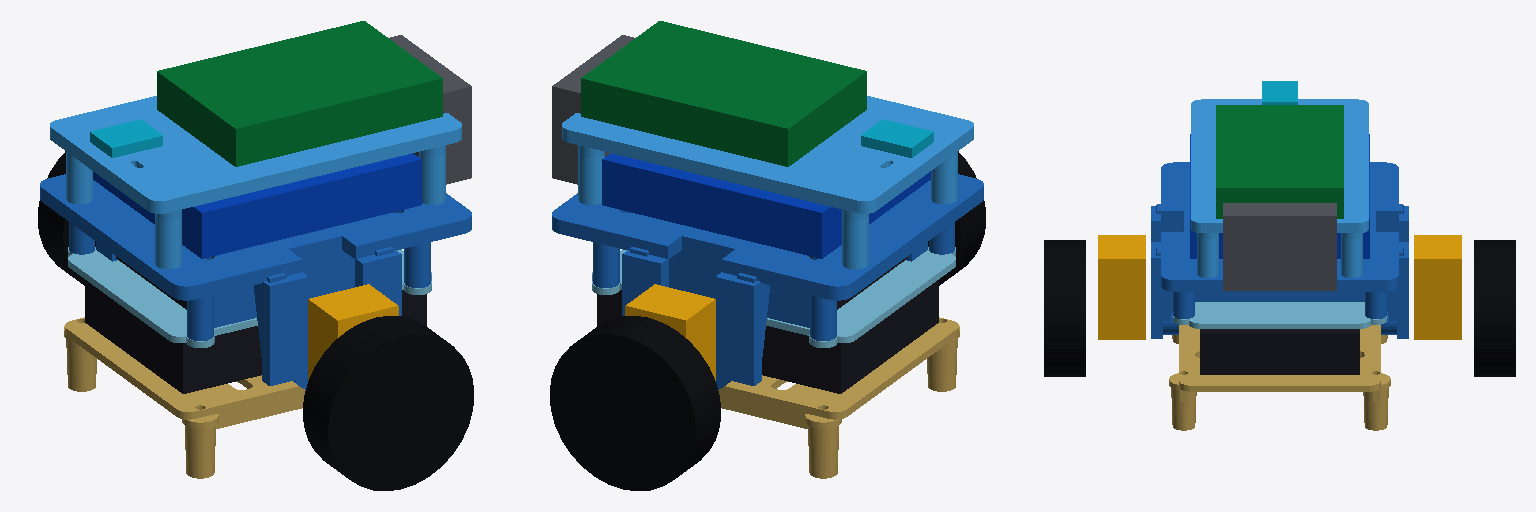
URDF robot description (balancing_robot_v12_stl_weighted):
<?xml version="1.0" ?>
<robot name="balancing_robot_v12_stl_weighted">
  <material name="chassis_blue">
    <color rgba="0.16 0.45 0.78 1"/>
  </material>
  <material name="upper_blue">
    <color rgba="0.27 0.65 0.92 1"/>
  </material>
  <material name="cover_blue">
    <color rgba="0.49 0.76 0.86 1"/>
  </material>
  <material name="cradle_sand">
    <color rgba="0.79 0.67 0.37 1"/>
  </material>
  <material name="pi_green">
    <color rgba="0.05 0.49 0.23 1"/>
  </material>
  <material name="mcore_blue">
    <color rgba="0.06 0.30 0.77 1"/>
  </material>
  <material name="mpu_cyan">
    <color rgba="0.07 0.70 0.83 1"/>
  </material>
  <material name="aa_black">
    <color rgba="0.14 0.15 0.18 1"/>
  </material>
  <material name="powerbank_black">
    <color rgba="0.13 0.13 0.17 1"/>
  </material>
  <material name="tt_yellow">
    <color rgba="0.93 0.68 0.08 1"/>
  </material>
  <material name="wheel_black">
    <color rgba="0.08 0.085 0.10 1"/>
  </material>
  <material name="cable_grey">
    <color rgba="0.36 0.37 0.40 1"/>
  </material>
  <link name="chassis">
    <inertial>
      <origin xyz="1.34274673e-05 -4.31444465e-12 0.0304160487" rpy="0 0 0"/>
      <mass value="0.106395932"/>
      <inertia ixx="0.00016612616218" ixy="4.10780345415e-14" ixz="1.20337599025e-08" iyy="0.000122442398391" iyz="4.05513702176e-15" izz="0.00025238717443"/>
    </inertial>
    <visual>
      <origin xyz="0 0 0.042" rpy="3.14159265 0 0"/>
      <geometry>
        <mesh filename="V12_Lower_M3_mCore_Compact_Motor_Walls.stl" scale="0.001 0.001 0.001"/>
      </geometry>
      <material name="chassis_blue"/>
    </visual>
    <collision>
      <origin xyz="0 0 0.03925" rpy="0 0 0"/>
      <geometry>
        <box size="0.122 0.104 0.0055"/>
      </geometry>
    </collision>
    <collision>
      <origin xyz="0 0.05375 0.01725" rpy="0 0 0"/>
      <geometry>
        <box size="0.054 0.0055 0.0385"/>
      </geometry>
    </collision>
    <collision>
      <origin xyz="0 -0.05375 0.01725" rpy="0 0 0"/>
      <geometry>
        <box size="0.054 0.0055 0.0385"/>
      </geometry>
    </collision>
    <collision>
      <origin xyz="-0.007 0.0375 0.0265" rpy="0 0 0"/>
      <geometry>
        <box size="0.072 0.003 0.02"/>
      </geometry>
    </collision>
    <collision>
      <origin xyz="-0.007 -0.0375 0.0265" rpy="0 0 0"/>
      <geometry>
        <box size="0.072 0.003 0.02"/>
      </geometry>
    </collision>
    <collision>
      <origin xyz="0.0275 0 0.0265" rpy="0 0 0"/>
      <geometry>
        <box size="0.003 0.078 0.02"/>
      </geometry>
    </collision>
  </link>
  <link name="upper_deck">
    <inertial>
      <origin xyz="-0.00117529397 -1.63109189e-11 0.0667863561" rpy="0 0 0"/>
      <mass value="0.0508597458"/>
      <inertia ixx="3.07240740549e-05" ixy="-2.08002570556e-15" ixz="1.8669714045e-07" iyy="7.77741499737e-05" iyz="-2.76864318174e-15" izz="0.000105591642619"/>
    </inertial>
    <visual>
      <origin xyz="0 0 0.071" rpy="3.14159265 0 0"/>
      <geometry>
        <mesh filename="V12_Upper_Pi_MPU_Short_24mm_Pillars.stl" scale="0.001 0.001 0.001"/>
      </geometry>
      <material name="upper_blue"/>
    </visual>
    <collision>
      <origin xyz="0 0 0.0685" rpy="0 0 0"/>
      <geometry>
        <box size="0.128 0.078 0.005"/>
      </geometry>
    </collision>
    <collision>
      <origin xyz="-0.054 -0.0315 0.054" rpy="0 0 0"/>
      <geometry>
        <cylinder radius="0.00475" length="0.024"/>
      </geometry>
    </collision>
    <collision>
      <origin xyz="-0.054 0.0315 0.054" rpy="0 0 0"/>
      <geometry>
        <cylinder radius="0.00475" length="0.024"/>
      </geometry>
    </collision>
    <collision>
      <origin xyz="0.054 -0.0315 0.054" rpy="0 0 0"/>
      <geometry>
        <cylinder radius="0.00475" length="0.024"/>
      </geometry>
    </collision>
    <collision>
      <origin xyz="0.054 0.0315 0.054" rpy="0 0 0"/>
      <geometry>
        <cylinder radius="0.00475" length="0.024"/>
      </geometry>
    </collision>
  </link>
  <joint name="upper_deck_fixed" type="fixed">
    <origin xyz="0 0 0" rpy="0 0 0"/>
    <parent link="chassis"/>
    <child link="upper_deck"/>
  </joint>
  <link name="aa_lid">
    <inertial>
      <origin xyz="-0.0025 -2.13590834e-19 0.0152" rpy="0 0 0"/>
      <mass value="0.0253443107"/>
      <inertia ixx="1.42358720144e-05" ixy="-5.5757118389e-23" ixz="-3.24798747897e-23" iyy="2.46714389835e-05" iyz="1.19634205475e-22" izz="3.88787564078e-05"/>
    </inertial>
    <visual>
      <origin xyz="0 0 0.0165" rpy="3.14159265 0 0"/>
      <geometry>
        <mesh filename="V12_AA_Battery_Pocket_Cover.stl" scale="0.001 0.001 0.001"/>
      </geometry>
      <material name="cover_blue"/>
    </visual>
    <collision>
      <origin xyz="-0.0025 0 0.0152" rpy="0 0 0"/>
      <geometry>
        <box size="0.107 0.08 0.0026"/>
      </geometry>
    </collision>
  </link>
  <joint name="aa_lid_fixed" type="fixed">
    <origin xyz="0 0 0" rpy="0 0 0"/>
    <parent link="chassis"/>
    <child link="aa_lid"/>
  </joint>
  <link name="powerbank_cradle">
    <inertial>
      <origin xyz="-0.000423340593 6.52540513e-10 -0.0157889269" rpy="0 0 0"/>
      <mass value="0.0368898487"/>
      <inertia ixx="3.60939612444e-05" ixy="9.21363275809e-14" ixz="-1.66353408261e-07" iyy="4.47970968328e-05" iyz="3.09276846336e-13" izz="7.85799743048e-05"/>
    </inertial>
    <visual>
      <origin xyz="0 0 -0.0116" rpy="3.14159265 0 0"/>
      <geometry>
        <mesh filename="V12_Powerbank_20mm_Open_End_Cradle.stl" scale="0.001 0.001 0.001"/>
      </geometry>
      <material name="cradle_sand"/>
    </visual>
    <collision>
      <origin xyz="0 0 -0.0101" rpy="0 0 0"/>
      <geometry>
        <box size="0.11 0.088 0.003"/>
      </geometry>
    </collision>
    <collision>
      <origin xyz="-0.047 -0.042 0.00265" rpy="0 0 0"/>
      <geometry>
        <cylinder radius="0.005" length="0.0225"/>
      </geometry>
    </collision>
    <collision>
      <origin xyz="-0.047 0.042 0.00265" rpy="0 0 0"/>
      <geometry>
        <cylinder radius="0.005" length="0.0225"/>
      </geometry>
    </collision>
    <collision>
      <origin xyz="0.042 -0.042 0.00265" rpy="0 0 0"/>
      <geometry>
        <cylinder radius="0.005" length="0.0225"/>
      </geometry>
    </collision>
    <collision>
      <origin xyz="0.042 0.042 0.00265" rpy="0 0 0"/>
      <geometry>
        <cylinder radius="0.005" length="0.0225"/>
      </geometry>
    </collision>
  </link>
  <joint name="powerbank_cradle_fixed" type="fixed">
    <origin xyz="0 0 0" rpy="0 0 0"/>
    <parent link="chassis"/>
    <child link="powerbank_cradle"/>
  </joint>
  <link name="mcore">
    <inertial>
      <origin xyz="0 0 0" rpy="0 0 0"/>
      <mass value="0.043"/>
      <inertia ixx="2.35245833333e-05" ixy="0" ixz="0" iyy="3.0186e-05" iyz="0" izz="5.13885833333e-05"/>
    </inertial>
    <visual>
      <origin xyz="0 0 0" rpy="0 0 0"/>
      <geometry>
        <box size="0.09 0.079 0.018"/>
      </geometry>
      <material name="mcore_blue"/>
    </visual>
  </link>
  <joint name="mcore_fixed" type="fixed">
    <origin xyz="0 0 0.054" rpy="0 0 0"/>
    <parent link="chassis"/>
    <child link="mcore"/>
  </joint>
  <link name="raspberry_pi_4">
    <inertial>
      <origin xyz="0 0 0" rpy="0 0 0"/>
      <mass value="0.046"/>
      <inertia ixx="1.28838333333e-05" ixy="0" ixz="0" iyy="2.85583333333e-05" iyz="0" izz="3.97171666667e-05"/>
    </inertial>
    <visual>
      <origin xyz="0 0 0" rpy="0 0 0"/>
      <geometry>
        <box size="0.085 0.056 0.015"/>
      </geometry>
      <material name="pi_green"/>
    </visual>
  </link>
  <joint name="raspberry_pi_4_fixed" type="fixed">
    <origin xyz="0.018 0 0.079" rpy="0 0 0"/>
    <parent link="chassis"/>
    <child link="raspberry_pi_4"/>
  </joint>
  <link name="mpu6050_gy521">
    <inertial>
      <origin xyz="0 0 0" rpy="0 0 0"/>
      <mass value="0.003"/>
      <inertia ixx="6.8e-08" ixy="0" ixz="0" iyy="1.1425e-07" iyz="0" izz="1.7425e-07"/>
    </inertial>
    <visual>
      <origin xyz="0 0 0" rpy="0 0 0"/>
      <geometry>
        <box size="0.021 0.016 0.004"/>
      </geometry>
      <material name="mpu_cyan"/>
    </visual>
  </link>
  <joint name="mpu6050_gy521_fixed" type="fixed">
    <origin xyz="-0.053 0 0.078" rpy="0 0 0"/>
    <parent link="chassis"/>
    <child link="mpu6050_gy521"/>
  </joint>
  <link name="aa_batteries_and_holder">
    <inertial>
      <origin xyz="0 0 0" rpy="0 0 0"/>
      <mass value="0.121"/>
      <inertia ixx="5.40970833333e-05" ixy="0" ixz="0" iyy="5.127375e-05" iyz="0" izz="9.88368333333e-05"/>
    </inertial>
    <visual>
      <origin xyz="0 0 0" rpy="0 0 0"/>
      <geometry>
        <box size="0.069 0.071 0.018"/>
      </geometry>
      <material name="aa_black"/>
    </visual>
  </link>
  <joint name="aa_batteries_and_holder_fixed" type="fixed">
    <origin xyz="-0.007 0 0.0265" rpy="0 0 0"/>
    <parent link="chassis"/>
    <child link="aa_batteries_and_holder"/>
  </joint>
  <link name="pi_powerbank">
    <inertial>
      <origin xyz="0 0 0" rpy="0 0 0"/>
      <mass value="0.2"/>
      <inertia ixx="8.83333333333e-05" ixy="0" ixz="0" iyy="0.000173333333333" iyz="0" izz="0.000248333333333"/>
    </inertial>
    <visual>
      <origin xyz="0 0 0" rpy="0 0 0"/>
      <geometry>
        <box size="0.1 0.07 0.02"/>
      </geometry>
      <material name="powerbank_black"/>
    </visual>
  </link>
  <joint name="pi_powerbank_fixed" type="fixed">
    <origin xyz="0 0 0.0014" rpy="0 0 0"/>
    <parent link="chassis"/>
    <child link="pi_powerbank"/>
  </joint>
  <link name="usb_cable_wires">
    <inertial>
      <origin xyz="0 0 0" rpy="0 0 0"/>
      <mass value="0.02"/>
      <inertia ixx="6.32666666667e-06" ixy="0" ixz="0" iyy="2.58666666667e-06" iyz="0" izz="4.59333333333e-06"/>
    </inertial>
    <visual>
      <origin xyz="0 0 0" rpy="0 0 0"/>
      <geometry>
        <box size="0.016 0.05 0.036"/>
      </geometry>
      <material name="cable_grey"/>
    </visual>
  </link>
  <joint name="usb_cable_wires_fixed" type="fixed">
    <origin xyz="0.066 0 0.061" rpy="0 0 0"/>
    <parent link="chassis"/>
    <child link="usb_cable_wires"/>
  </joint>
  <link name="left_tt_motor">
    <inertial>
      <origin xyz="0 0 0" rpy="0 0 0"/>
      <mass value="0.041"/>
      <inertia ixx="6.7035e-06" ixy="0" ixz="0" iyy="7.33216666667e-06" iyz="0" izz="3.64216666667e-06"/>
    </inertial>
    <visual>
      <origin xyz="0 0 0" rpy="0 0 0"/>
      <geometry>
        <box size="0.025 0.021 0.039"/>
      </geometry>
      <material name="tt_yellow"/>
    </visual>
  </link>
  <joint name="left_tt_motor_fixed" type="fixed">
    <origin xyz="0 0.069 0.01" rpy="0 0 0"/>
    <parent link="chassis"/>
    <child link="left_tt_motor"/>
  </joint>
  <link name="right_tt_motor">
    <inertial>
      <origin xyz="0 0 0" rpy="0 0 0"/>
      <mass value="0.041"/>
      <inertia ixx="6.7035e-06" ixy="0" ixz="0" iyy="7.33216666667e-06" iyz="0" izz="3.64216666667e-06"/>
    </inertial>
    <visual>
      <origin xyz="0 0 0" rpy="0 0 0"/>
      <geometry>
        <box size="0.025 0.021 0.039"/>
      </geometry>
      <material name="tt_yellow"/>
    </visual>
  </link>
  <joint name="right_tt_motor_fixed" type="fixed">
    <origin xyz="0 -0.069 0.01" rpy="0 0 0"/>
    <parent link="chassis"/>
    <child link="right_tt_motor"/>
  </joint>
  <link name="left_wheel">
    <inertial>
      <origin xyz="0 0 0" rpy="0 0 0"/>
      <mass value="0.02"/>
      <inertia ixx="5.04e-06" ixy="0" ixz="0" iyy="9e-06" iyz="0" izz="5.04e-06"/>
    </inertial>
    <visual>
      <origin xyz="0 0 0" rpy="1.57079633 0 0"/>
      <geometry>
        <cylinder radius="0.03" length="0.018"/>
      </geometry>
      <material name="wheel_black"/>
    </visual>
    <collision>
      <origin xyz="0 0 0" rpy="1.57079633 0 0"/>
      <geometry>
        <cylinder radius="0.03" length="0.018"/>
      </geometry>
    </collision>
  </link>
  <joint name="left_wheel_joint" type="continuous">
    <origin xyz="0 0.094 0" rpy="0 0 0"/>
    <parent link="chassis"/>
    <child link="left_wheel"/>
    <axis xyz="0 1 0"/>
    <dynamics damping="0.003" friction="0.0"/>
    <limit effort="0.4" velocity="40"/>
  </joint>
  <link name="right_wheel">
    <inertial>
      <origin xyz="0 0 0" rpy="0 0 0"/>
      <mass value="0.02"/>
      <inertia ixx="5.04e-06" ixy="0" ixz="0" iyy="9e-06" iyz="0" izz="5.04e-06"/>
    </inertial>
    <visual>
      <origin xyz="0 0 0" rpy="1.57079633 0 0"/>
      <geometry>
        <cylinder radius="0.03" length="0.018"/>
      </geometry>
      <material name="wheel_black"/>
    </visual>
    <collision>
      <origin xyz="0 0 0" rpy="1.57079633 0 0"/>
      <geometry>
        <cylinder radius="0.03" length="0.018"/>
      </geometry>
    </collision>
  </link>
  <joint name="right_wheel_joint" type="continuous">
    <origin xyz="0 -0.094 0" rpy="0 0 0"/>
    <parent link="chassis"/>
    <child link="right_wheel"/>
    <axis xyz="0 1 0"/>
    <dynamics damping="0.003" friction="0.0"/>
    <limit effort="0.4" velocity="40"/>
  </joint>
</robot>

--- Facts derived from the render (not from the file) ---
Views: 3 orthographic renders of the robot side by side, from view 1: azimuth 30°, elevation 25°; view 2: azimuth 150°, elevation 25°; view 3: azimuth 270°, elevation 25°.
Model balancing_robot_v12_stl_weighted with 14 links and 13 joints (2 continuous, 11 fixed), rooted at chassis, posed all joints at 0.
Links seen in each view (by area): view 1: chassis, raspberry_pi_4, right_wheel, upper_deck, mcore, powerbank_cradle, pi_powerbank, aa_lid, right_tt_motor, usb_cable_wires, mpu6050_gy521, left_wheel; view 2: chassis, raspberry_pi_4, left_wheel, upper_deck, mcore, powerbank_cradle, pi_powerbank, aa_lid, left_tt_motor, usb_cable_wires, mpu6050_gy521, right_wheel; view 3: chassis, raspberry_pi_4, usb_cable_wires, upper_deck, powerbank_cradle, pi_powerbank, left_wheel, right_wheel, left_tt_motor, right_tt_motor, aa_lid, mpu6050_gy521 (+1 smaller).
Boxes of the visible links, x1,y1,x2,y2 form: chassis: (40,174,471,389); raspberry_pi_4: (157,21,442,166); right_wheel: (303,316,473,490); upper_deck: (50,96,461,269); mcore: (93,153,421,258); powerbank_cradle: (64,317,305,478); pi_powerbank: (85,280,426,393); aa_lid: (68,247,431,347); right_tt_motor: (308,284,398,380); usb_cable_wires: (389,35,471,184); mpu6050_gy521: (90,119,162,157); left_wheel: (38,151,95,285); chassis: (552,174,983,389); raspberry_pi_4: (581,21,866,166); left_wheel: (550,316,720,490); upper_deck: (562,96,973,269); mcore: (602,153,930,258); powerbank_cradle: (718,317,959,478); pi_powerbank: (597,280,938,393); aa_lid: (592,247,955,347); left_tt_motor: (625,284,715,380); usb_cable_wires: (552,35,634,184); mpu6050_gy521: (861,119,933,157); right_wheel: (928,151,985,285); chassis: (1151,162,1408,338); raspberry_pi_4: (1216,105,1343,218); usb_cable_wires: (1223,203,1336,290); upper_deck: (1191,99,1368,277); powerbank_cradle: (1169,325,1390,430); pi_powerbank: (1200,329,1359,374); left_wheel: (1474,240,1515,376); right_wheel: (1044,240,1085,376); left_tt_motor: (1414,235,1461,339); right_tt_motor: (1098,235,1145,339); aa_lid: (1173,302,1386,328); mpu6050_gy521: (1262,81,1297,104).
Size in the robot's own frame: 0.138 by 0.206 by 0.1236 metres.
4 mesh visuals loaded from 4 distinct referenced files (4 ASCII STL).
